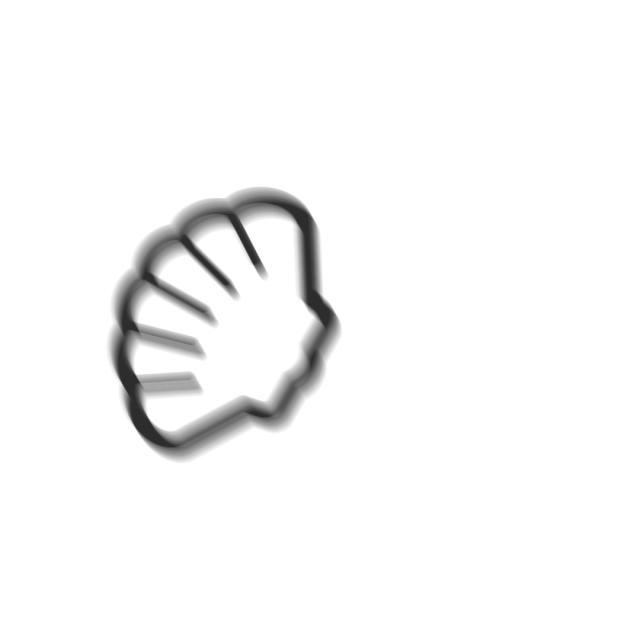shell: (101, 180, 349, 467)
